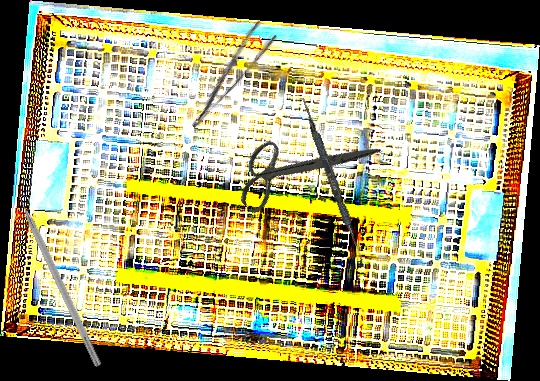Chopper: (10, 177, 112, 369)
Dressing Forceps: (175, 19, 280, 131)
Iris Scissors: (222, 87, 382, 250)
Spatula Surgical: (296, 97, 370, 267)
